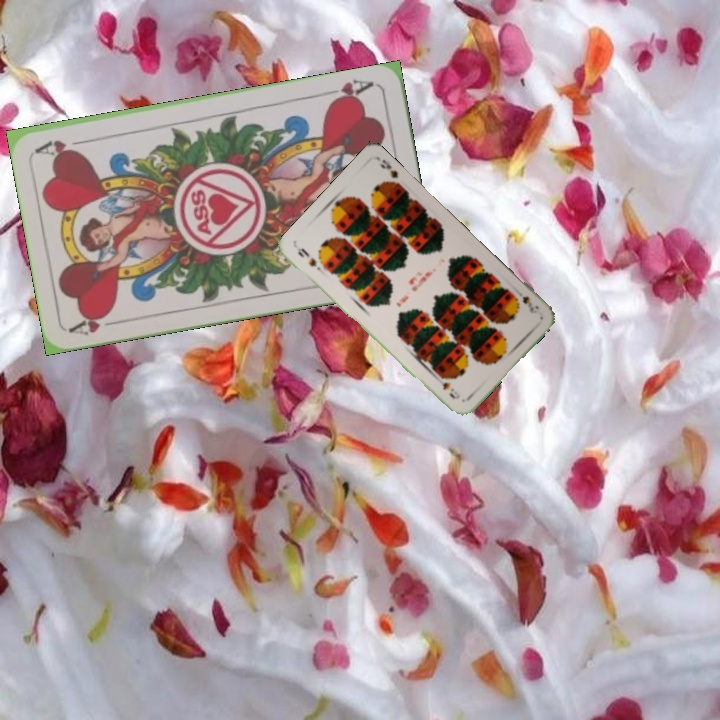HA: (319, 75, 377, 107), (66, 308, 125, 339)
S9: (293, 244, 320, 269), (518, 292, 542, 316)
